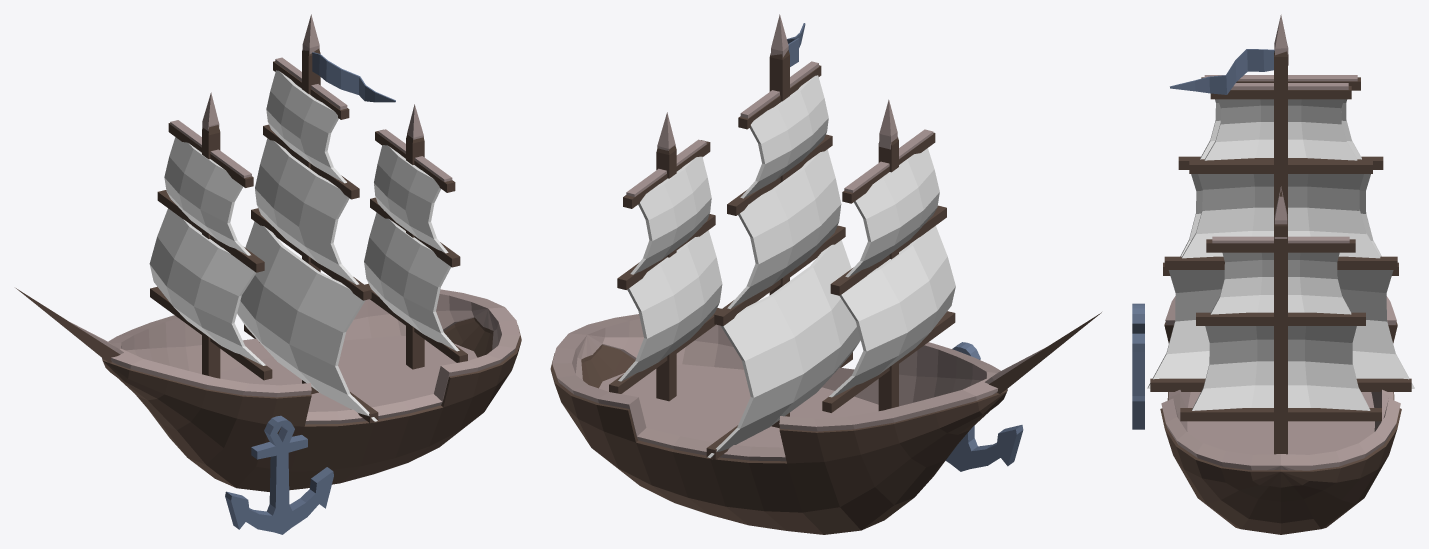
Rendered from Ship.fbx.
The picture shows the model from 3 angles, left to right: view 1: azimuth 30°, elevation 25°; view 2: azimuth 150°, elevation 25°; view 3: azimuth 270°, elevation 25°; orthographic projection. The views are drawn at different scales.
Visible parts, largest first — view 1: Ship, Ship.001, Plane.002, Plane.005, Plane, Plane.001, Plane.003, Anchor, Plane.004, Plane.006, Plane.007, Plane.008 (+14 smaller); view 2: Ship, Ship.001, Plane.002, Plane.005, Plane, Plane.001, Plane.003, Plane.004, Plane.006, Plane.007, Anchor, Cube.002 (+14 smaller); view 3: Plane.003, Ship, Plane.001, Plane.002, Plane.006, Plane.007, Ship.001, Plane, Cube.002, Cube.010, Cube.004, Cube (+15 smaller).
Boxes of the visible parts, <box> form: Ship: <box>102,317,521,491</box>; Ship.001: <box>108,289,519,424</box>; Plane.002: <box>237,221,377,421</box>; Plane.005: <box>149,208,266,365</box>; Plane: <box>220,335,477,411</box>; Plane.001: <box>255,138,359,284</box>; Plane.003: <box>364,212,459,351</box>; Anchor: <box>225,415,333,534</box>; Plane.004: <box>164,137,250,255</box>; Plane.006: <box>266,70,346,183</box>; Plane.007: <box>374,145,448,253</box>; Plane.008: <box>312,52,395,102</box>; Ship: <box>550,344,1007,534</box>; Ship.001: <box>552,314,1000,461</box>; Plane.002: <box>707,240,860,457</box>; Plane.005: <box>829,225,955,397</box>; Plane: <box>599,364,878,447</box>; Plane.001: <box>727,149,841,308</box>; Plane.003: <box>618,230,722,381</box>; Plane.004: <box>845,148,939,277</box>; Plane.006: <box>740,75,828,198</box>; Plane.007: <box>630,156,711,274</box>; Anchor: <box>945,342,1023,471</box>; Cube.002: <box>656,145,676,401</box>; Plane.003: <box>1192,326,1370,410</box>; Ship: <box>1160,322,1401,534</box>; Plane.001: <box>1181,174,1380,258</box>; Plane.002: <box>1147,270,1414,388</box>; Plane.006: <box>1204,99,1357,160</box>; Plane.007: <box>1210,252,1351,314</box>; Ship.001: <box>1161,296,1400,470</box>; Plane: <box>1187,392,1374,454</box>; Cube.002: <box>1274,188,1287,454</box>; Cube.010: <box>1180,408,1381,421</box>; Cube.004: <box>1189,160,1372,173</box>; Cube: <box>1274,51,1287,219</box>.
Size of the model in its own units: 1892 by 1672 by 905.
